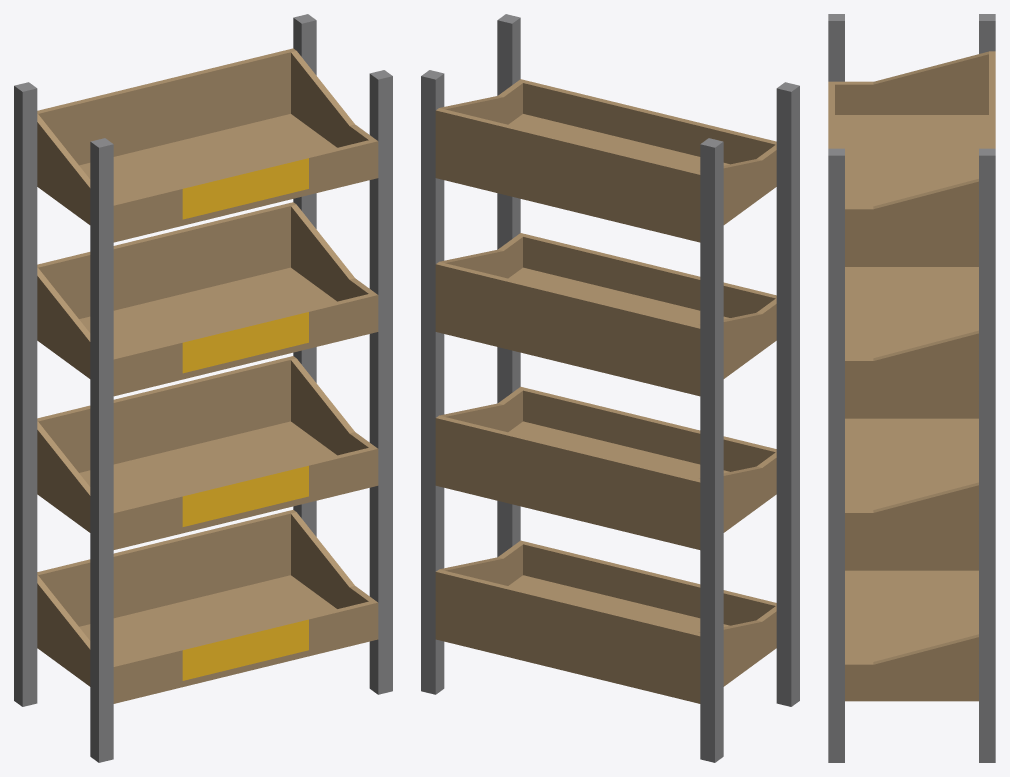
The model's file is Rack01.fbx.
The picture shows the model from 3 angles, left to right: view 1: azimuth 30°, elevation 25°; view 2: azimuth 150°, elevation 25°; view 3: azimuth 270°, elevation 25°; orthographic projection.
Visible parts, largest first — view 1: Rack01; view 2: Rack01; view 3: Rack01.
Part boxes in pixels (box(x1,y1,x2,y2)): Rack01: box(14, 14, 392, 762); Rack01: box(421, 14, 799, 762); Rack01: box(828, 14, 995, 762).
Size of the model in its own units: 1 by 2 by 0.5.
